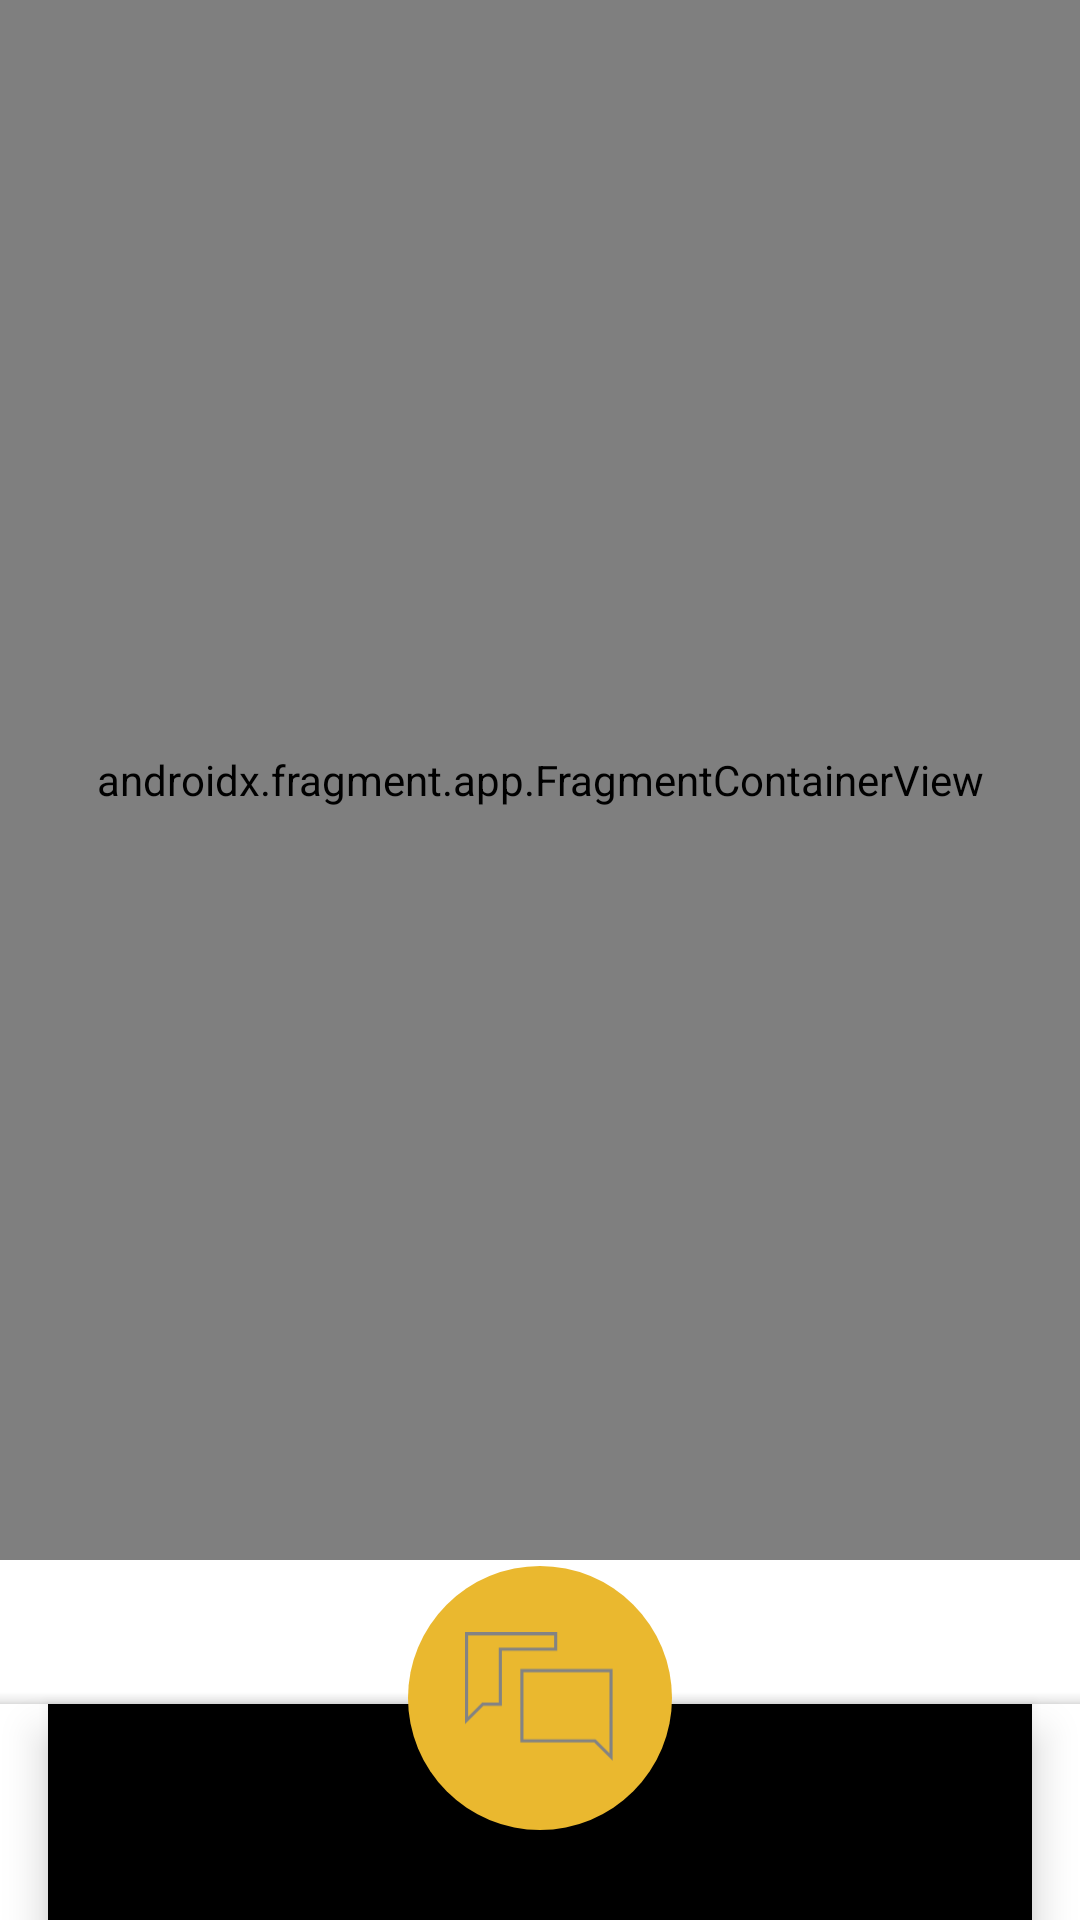

Where to tap for icons on this 1080 × 1920 app screen, as (x=x, y=y):
Message: (x=540, y=1698)
